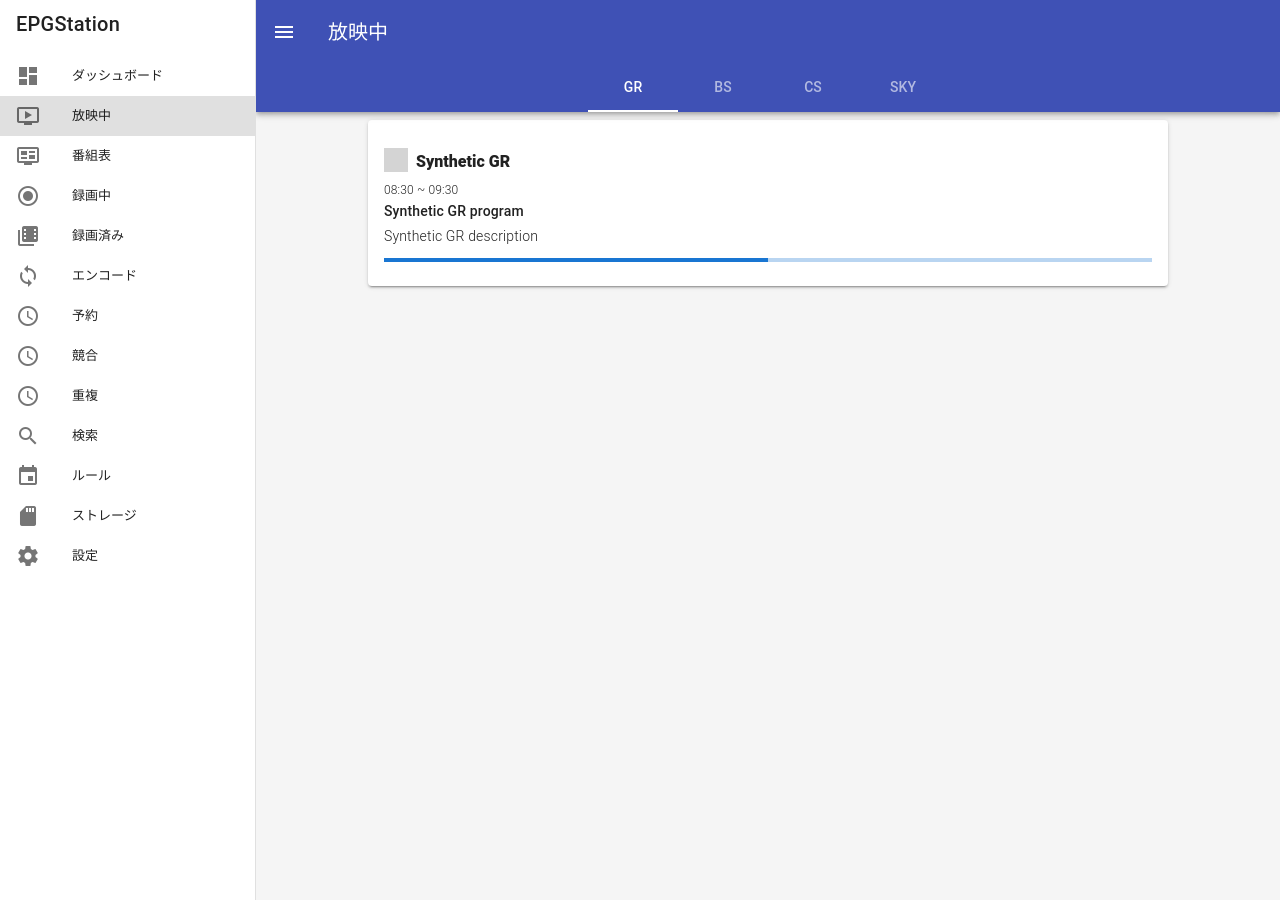
Scenario: On Air card and ProgramDialog actions › [AC 2.5] [AC 2.7] [AC 2.8] opens the shared ProgramDialog from the header without adding reserve classes to the card
The width and height of the screenshot is (1280, 900).
Click the button with test id "onair-card-header".
click(400, 160)  # box [384,144,1152,176]
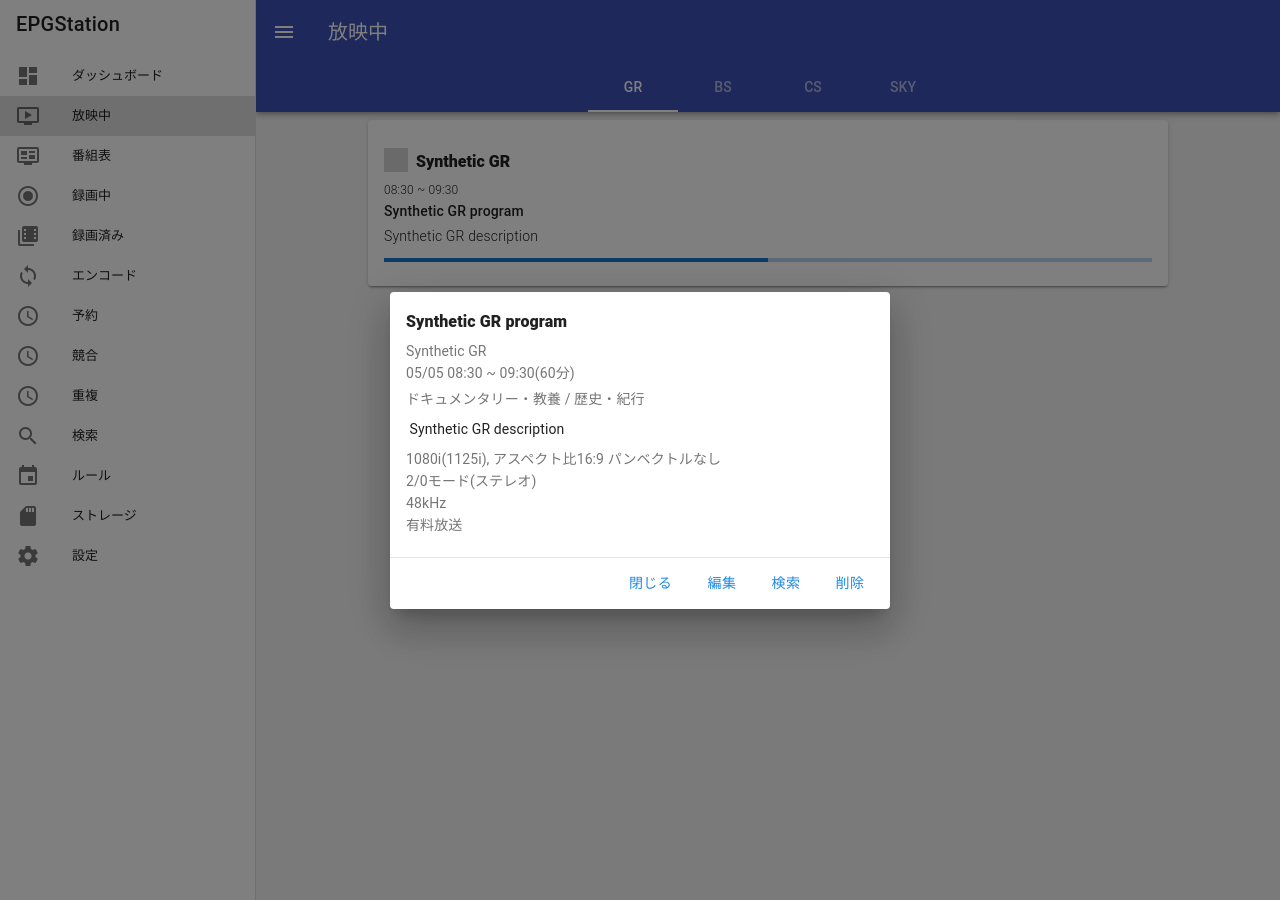
expect the dialog "Synthetic GR program" is shown: met, box [390,292,890,608]
expect the text "Synthetic GR" is shown: met, box [406,342,486,358]
expect the text "05/05 08:30 ~ 09:30(60分)" is shown: met, box [406,364,575,380]
